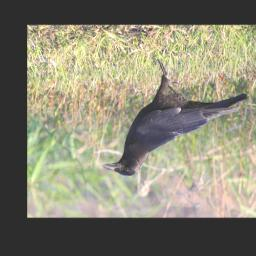Crow: (101, 55, 250, 178)
